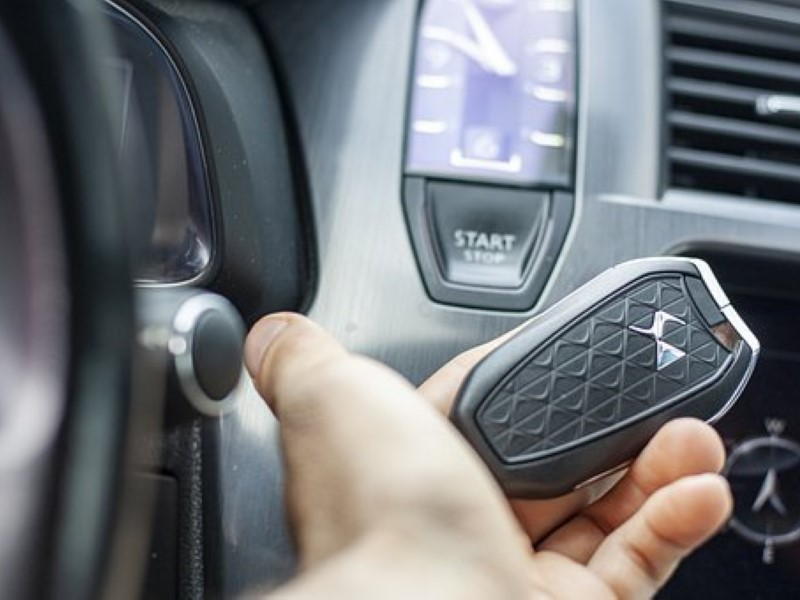carkey: (443, 252, 767, 503)
